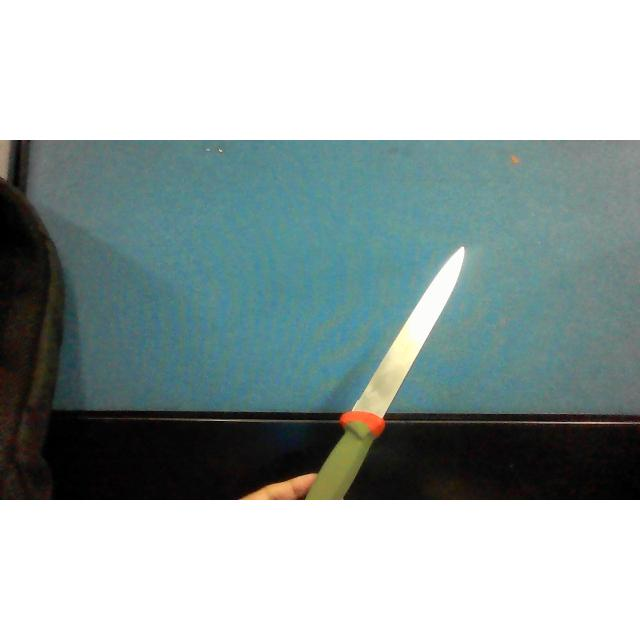Knife: (307, 242, 464, 499)
